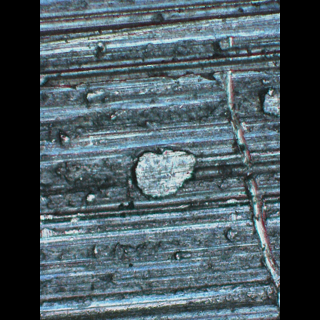d: (217, 35, 279, 296), (126, 145, 202, 202)
